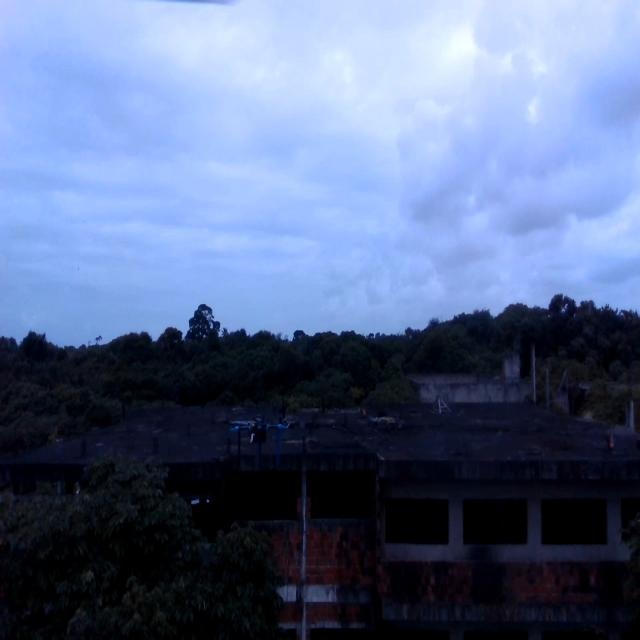-uav-: (218, 373, 300, 513)
